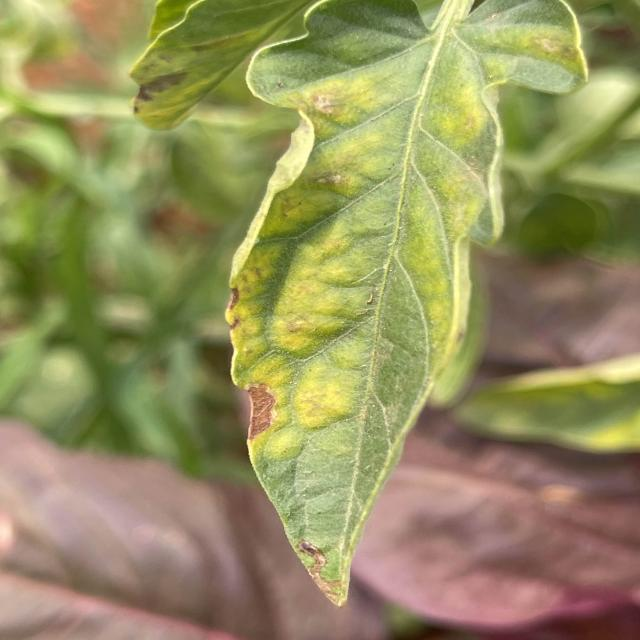tomato_early blight: (226, 0, 587, 605), (125, 0, 302, 129), (449, 344, 640, 446)
